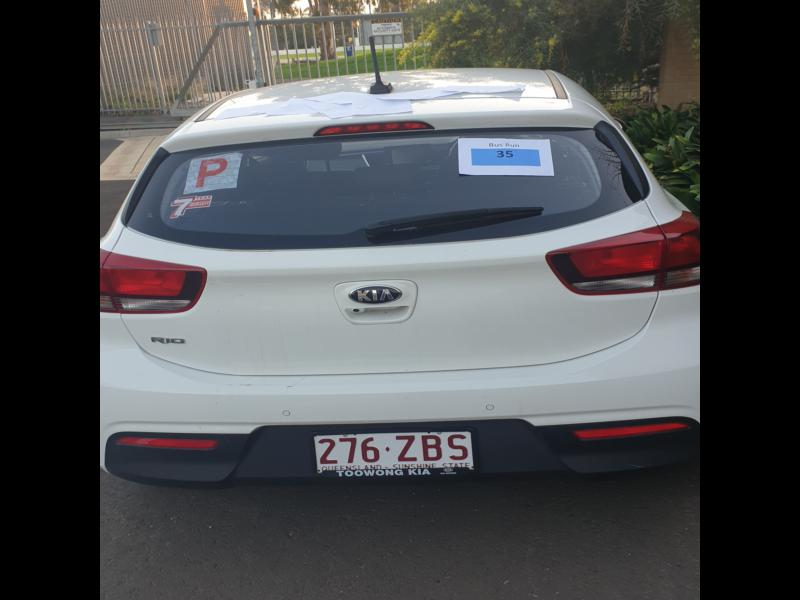BusRun: (471, 148, 542, 166)
PlateNo: (311, 430, 479, 473)
